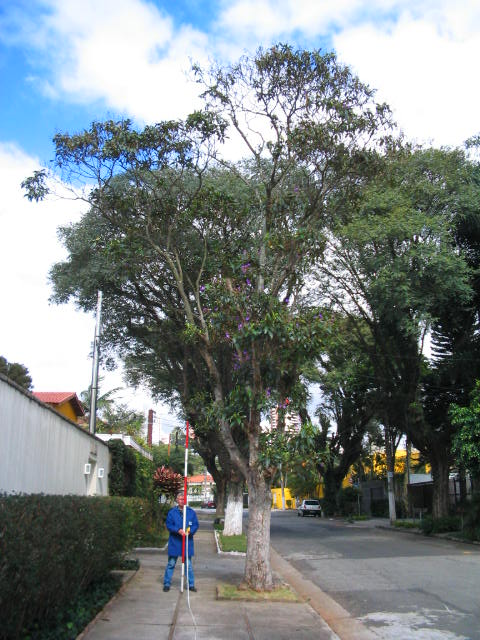crown: (24, 46, 468, 409)
stem: (243, 476, 290, 593), (420, 461, 463, 530), (312, 475, 351, 517)
stick: (174, 422, 198, 592)
tree: (22, 43, 470, 596)
